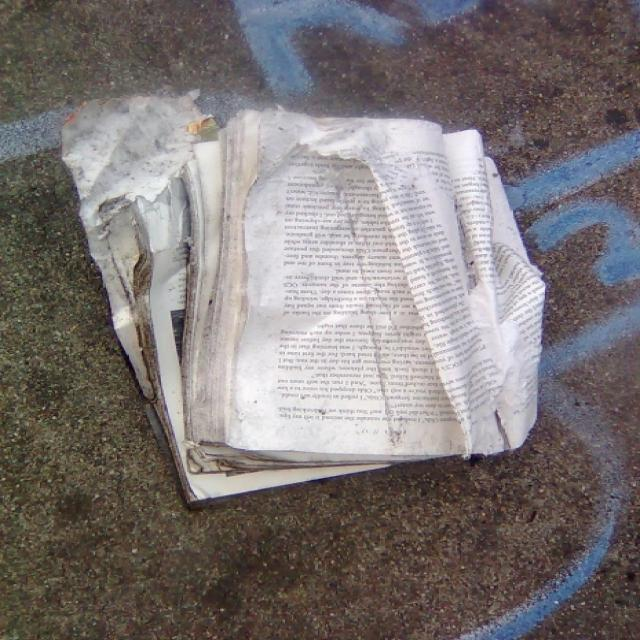paper: (61, 106, 540, 475)
